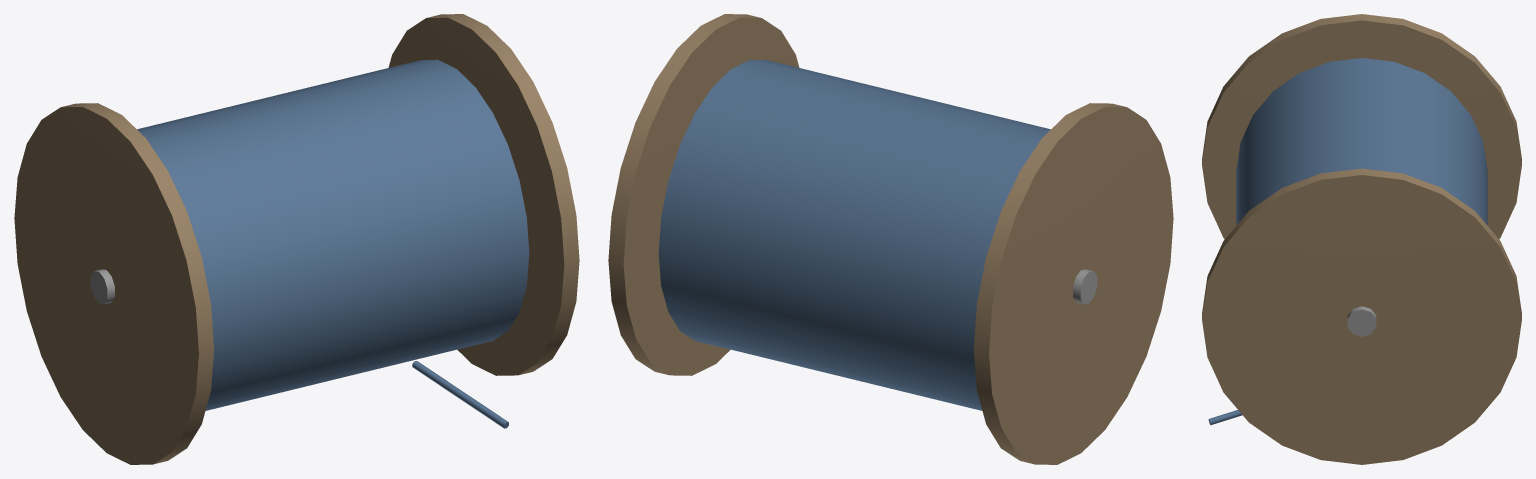
File: sigCable_steel.glb
3 views of the same model, side by side, from view 1: azimuth 30°, elevation 25°; view 2: azimuth 150°, elevation 25°; view 3: azimuth 270°, elevation 25° (orthographic). The views are drawn at different scales.
Parts seen in each view (by area): view 1: sigCable_steel; view 2: sigCable_steel; view 3: sigCable_steel.
Part boxes in pixels (box(x1,y1,x2,y2)): sigCable_steel: box(14, 14, 579, 464); sigCable_steel: box(608, 14, 1173, 464); sigCable_steel: box(1202, 14, 1521, 464).
Bounding box in the file's own units: 0.52 × 0.42 × 0.42.
